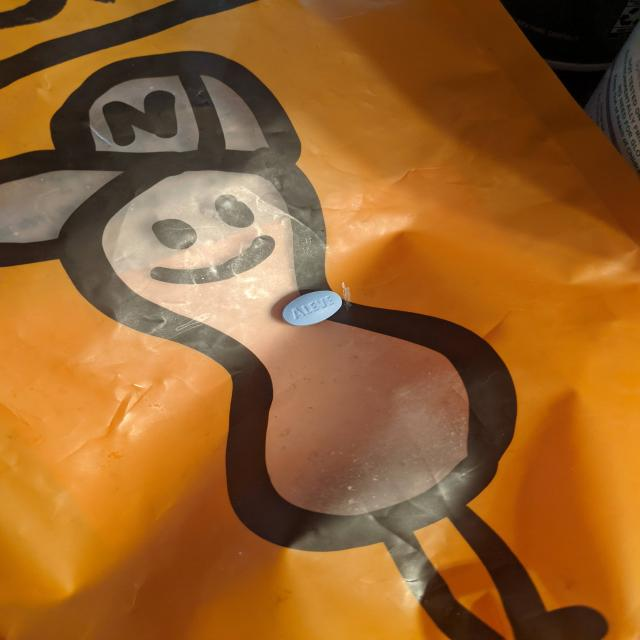non-organic waste: (281, 290, 343, 327)
